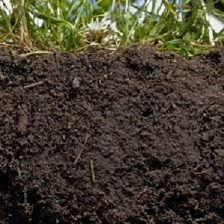loamy_soil: (12, 37, 211, 203)
